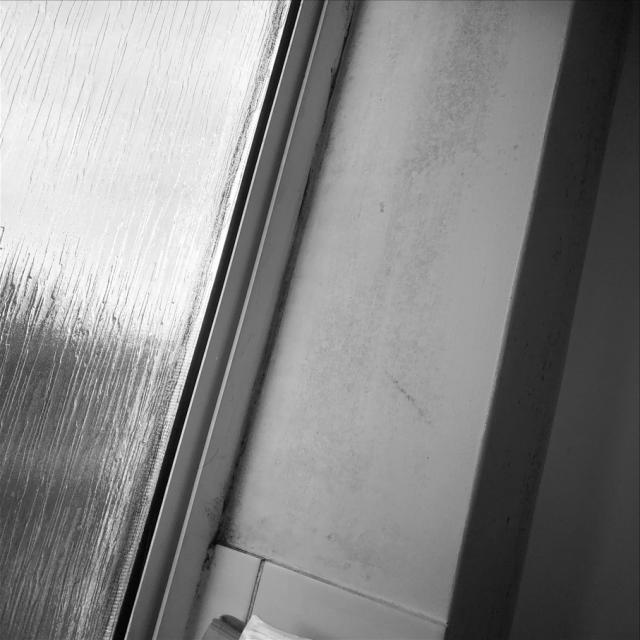stain marks: (190, 0, 536, 586)
